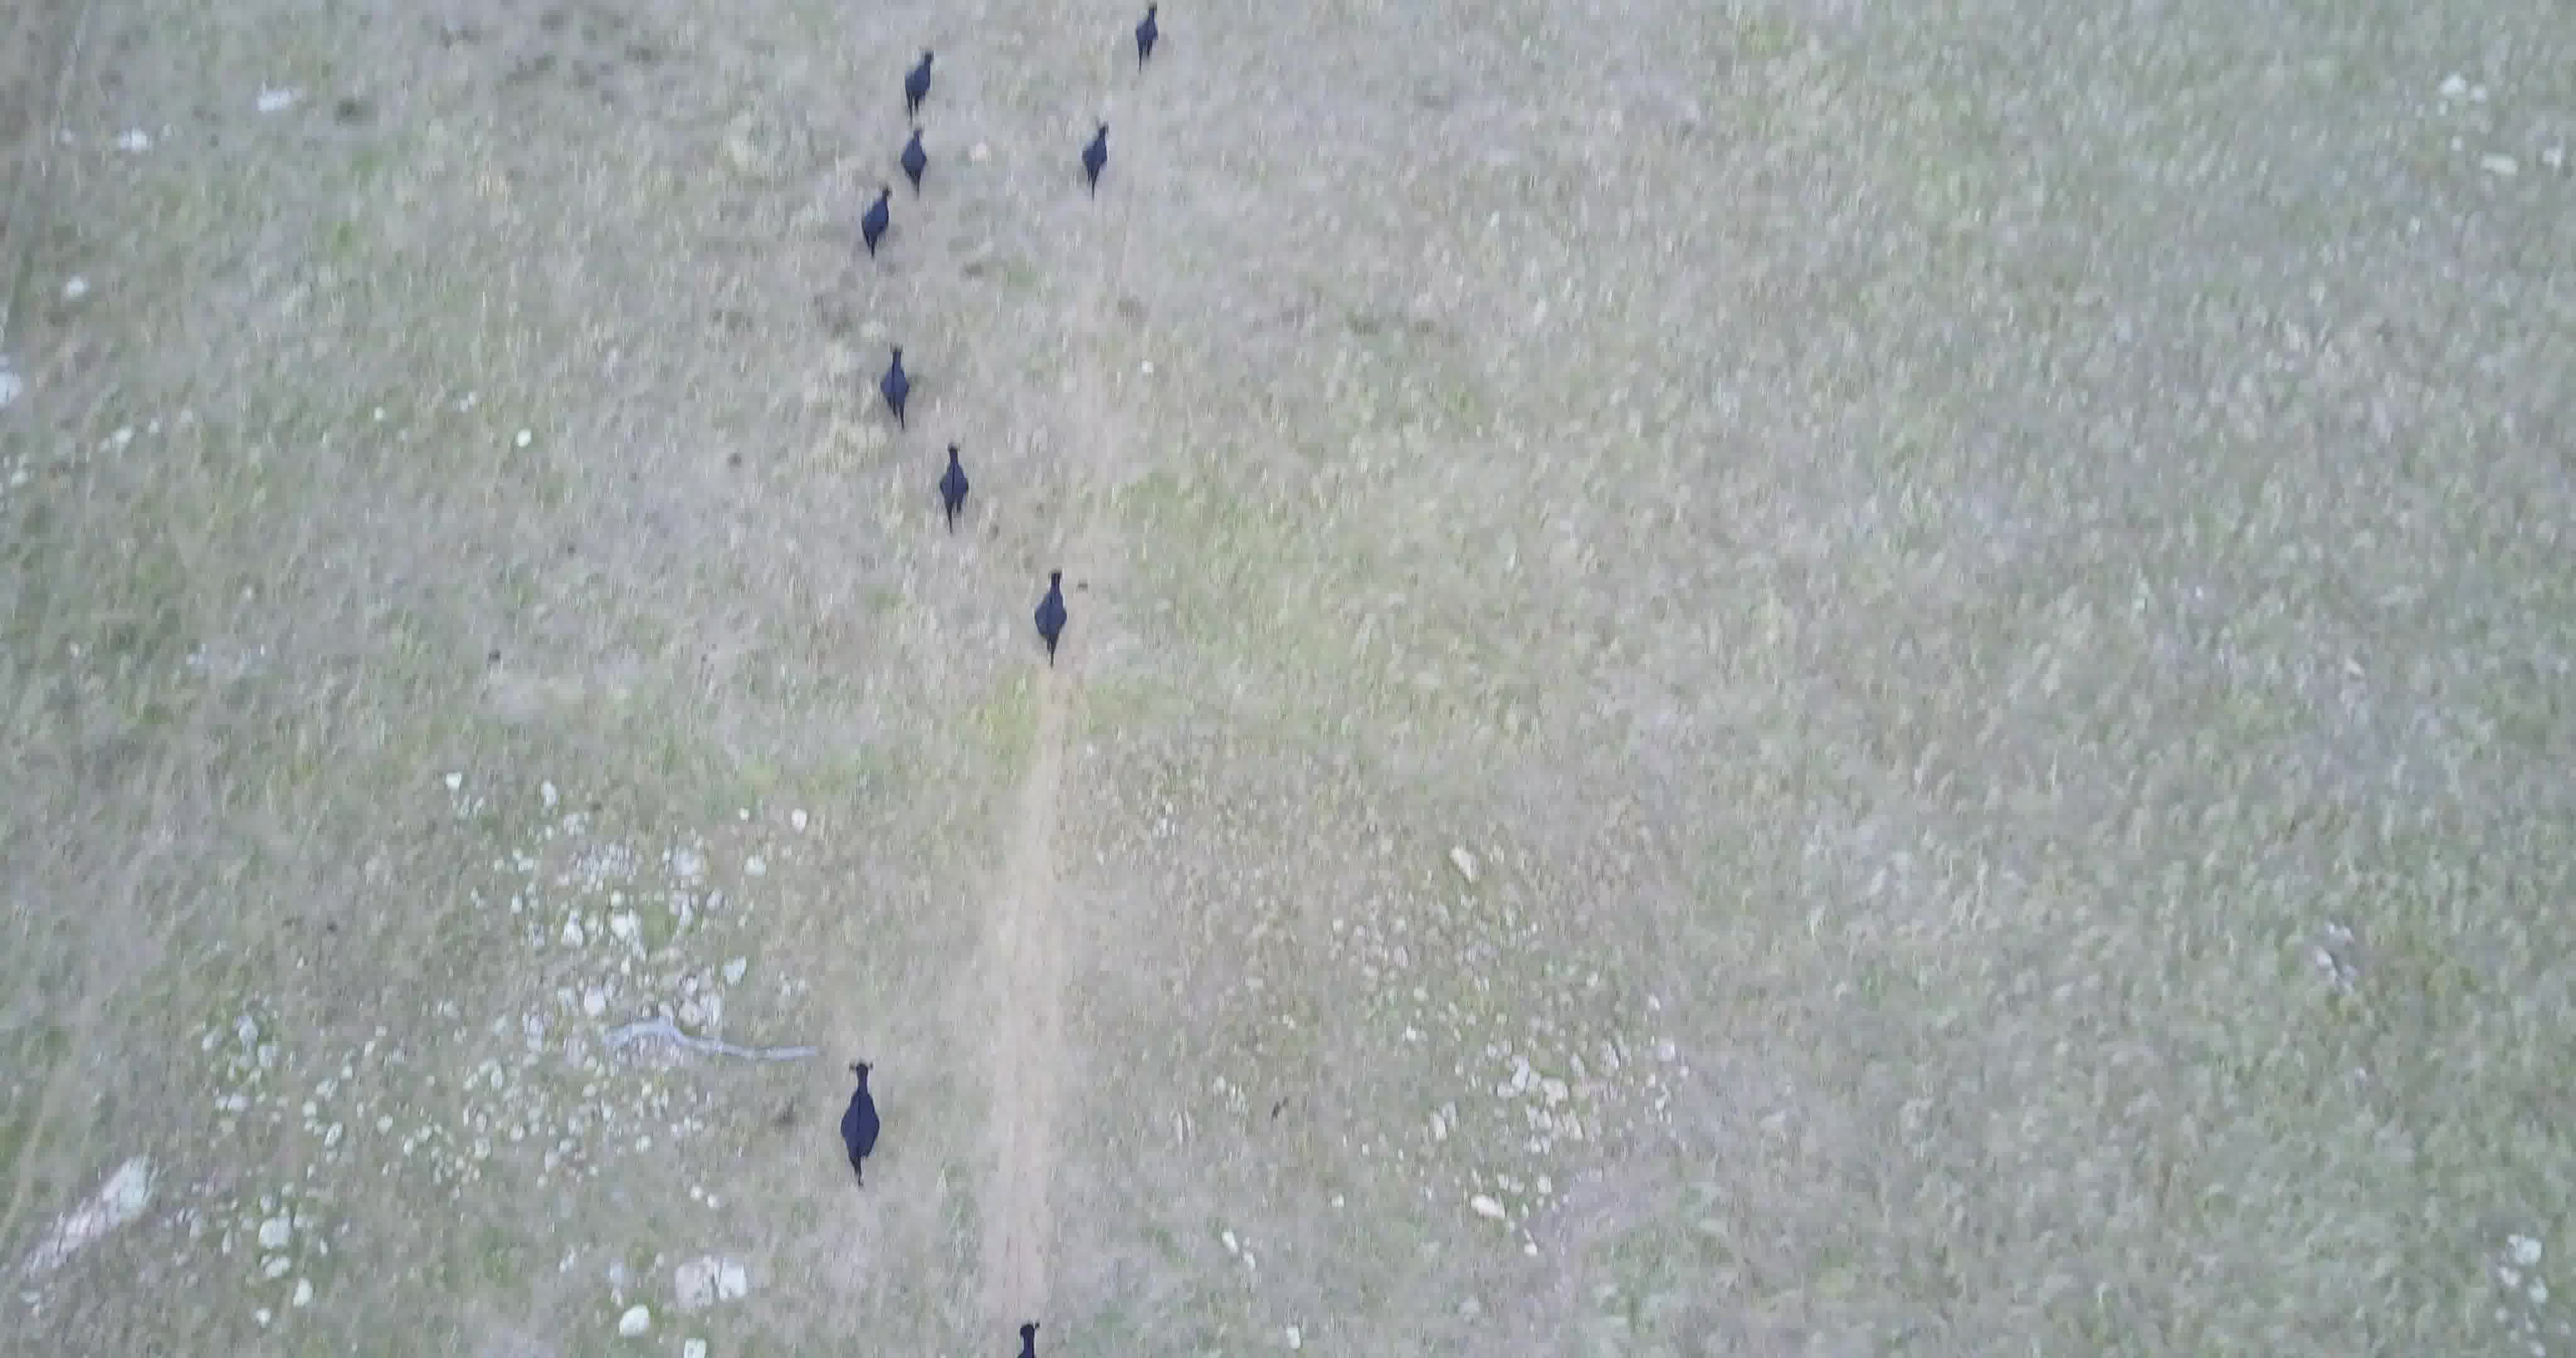cattle: (838, 1056, 881, 1198), (1027, 566, 1070, 678), (929, 441, 976, 540), (874, 341, 915, 434), (1077, 116, 1114, 204), (900, 43, 940, 121), (857, 184, 894, 266), (1131, 3, 1165, 80), (896, 124, 930, 201), (1002, 1309, 1046, 1358)
